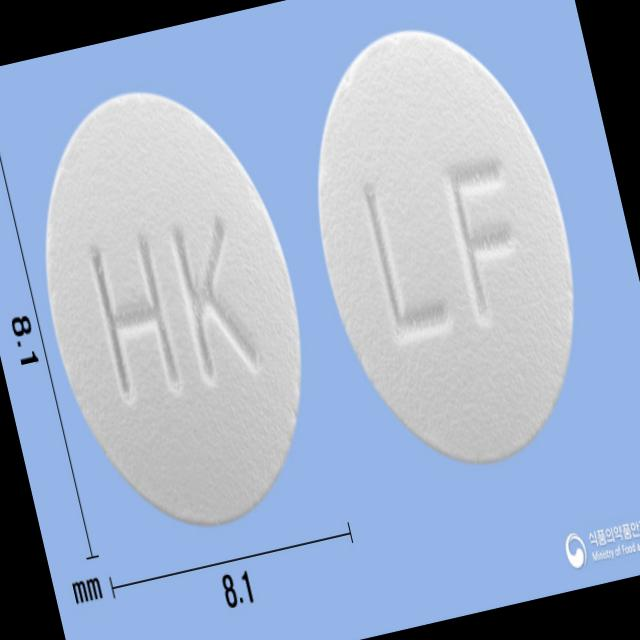Levotacin: (6, 62, 342, 548), (277, 0, 612, 485)
